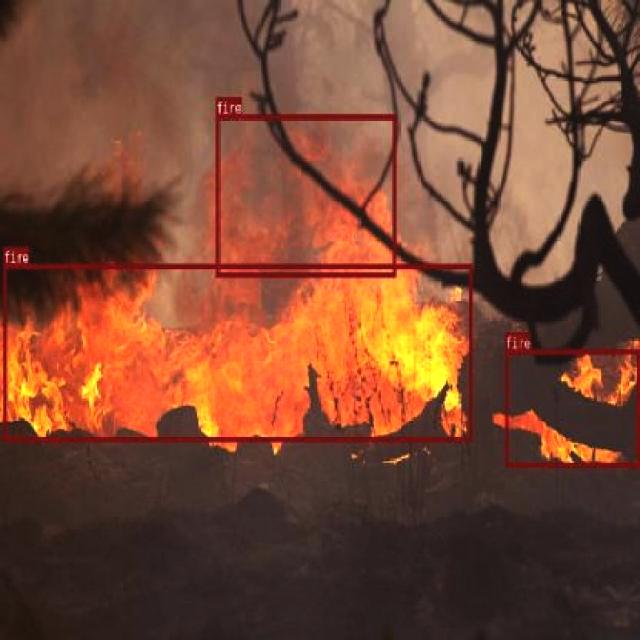fire: (3, 264, 472, 441), (216, 114, 395, 277), (504, 348, 638, 466)
